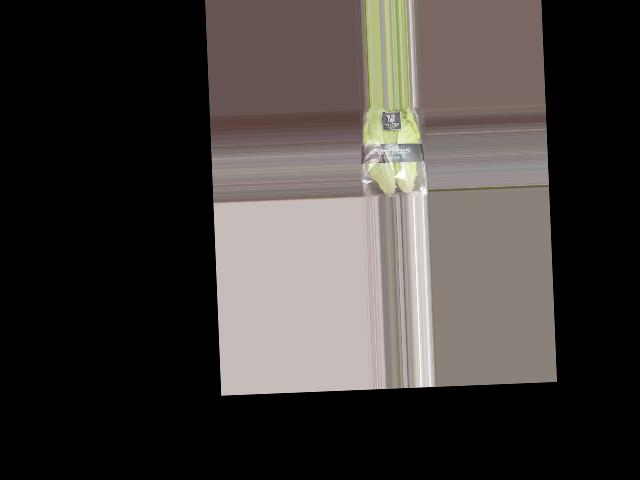lettuce: (363, 107, 427, 198)
